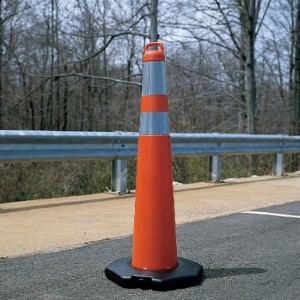traffic cone: (104, 42, 204, 292)
